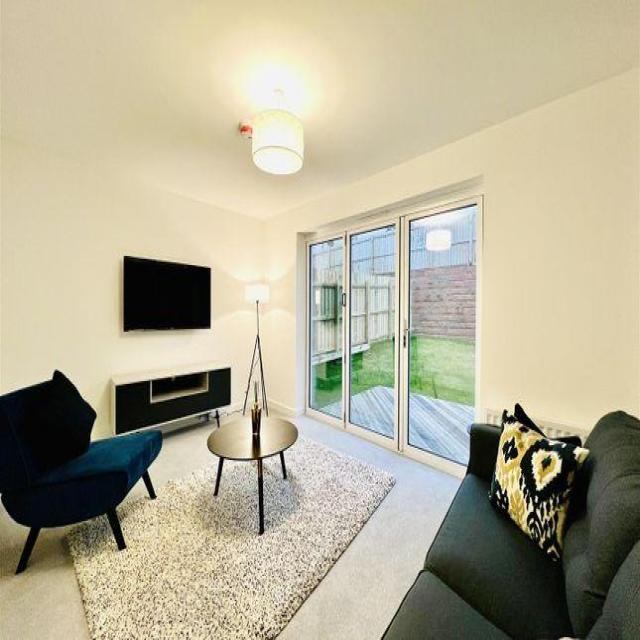Wall: (0, 68, 640, 428), (0, 3, 640, 216), (0, 416, 459, 639), (104, 313, 251, 402), (171, 165, 344, 217), (91, 397, 110, 434)
